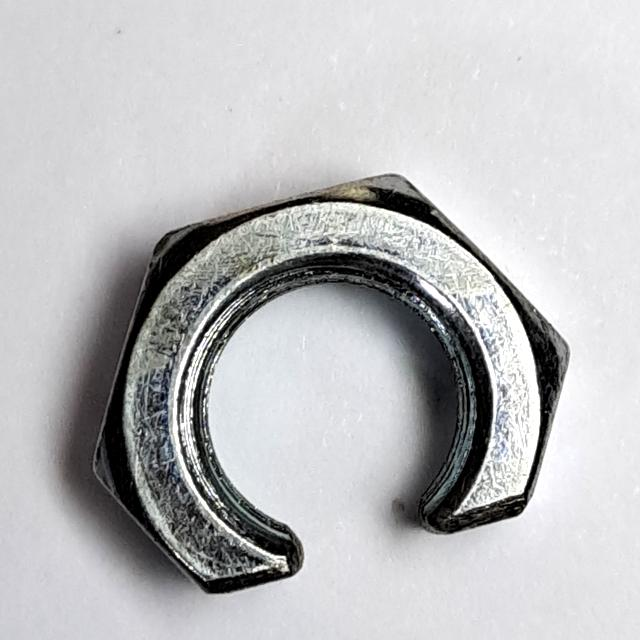Fracture: (77, 158, 580, 610)
